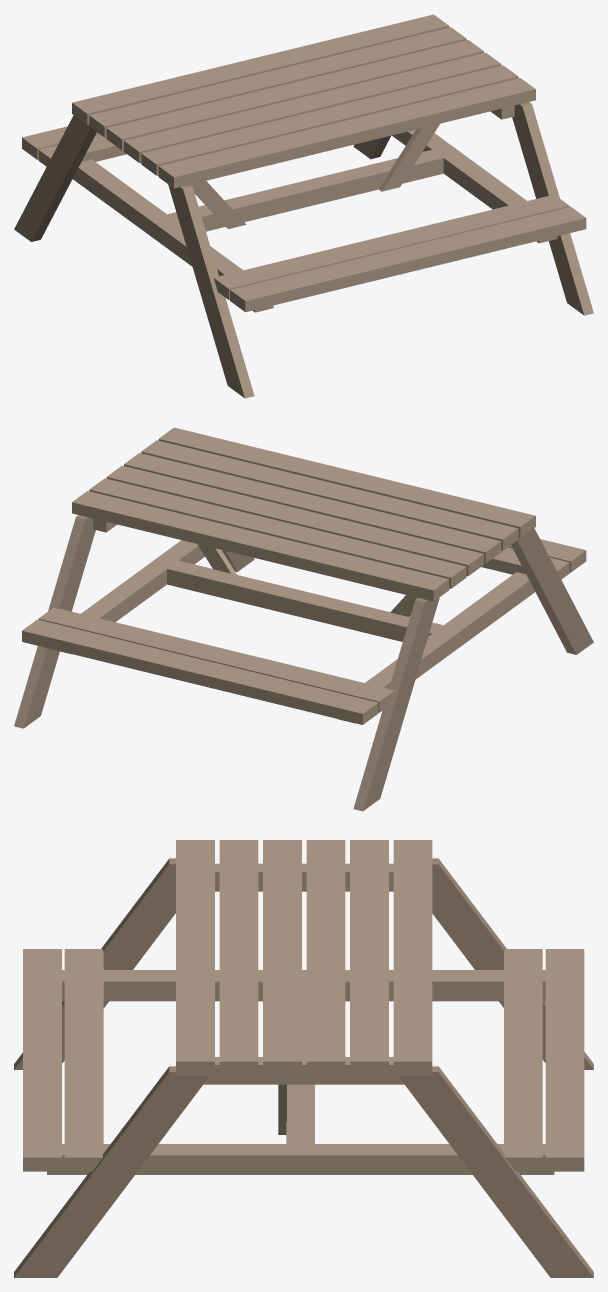
Rendered from Outdoor-Picnic_Bench.fbx.
3 renders of one model, top to bottom at view 1: azimuth 30°, elevation 25°; view 2: azimuth 150°, elevation 25°; view 3: azimuth 270°, elevation 25°, orthographic. The views are drawn at different scales.
Visible parts, largest first — view 1: Picnic_Bench; view 2: Picnic_Bench; view 3: Picnic_Bench.
Boxes of the visible parts, bbox=[...] form: Picnic_Bench: bbox=[14, 14, 593, 398]; Picnic_Bench: bbox=[14, 427, 593, 811]; Picnic_Bench: bbox=[14, 840, 593, 1277].
Size of the model in its own units: 2.21 by 1.02 by 2.44.
